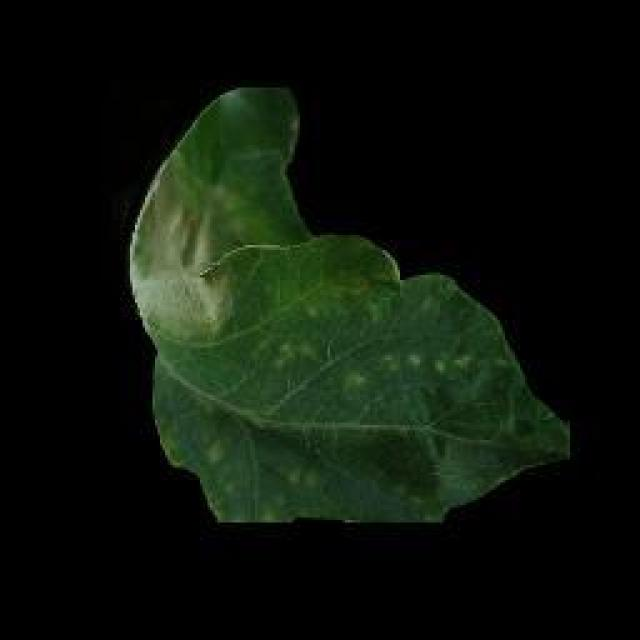Tomato late blight leaf: (128, 85, 570, 523)
